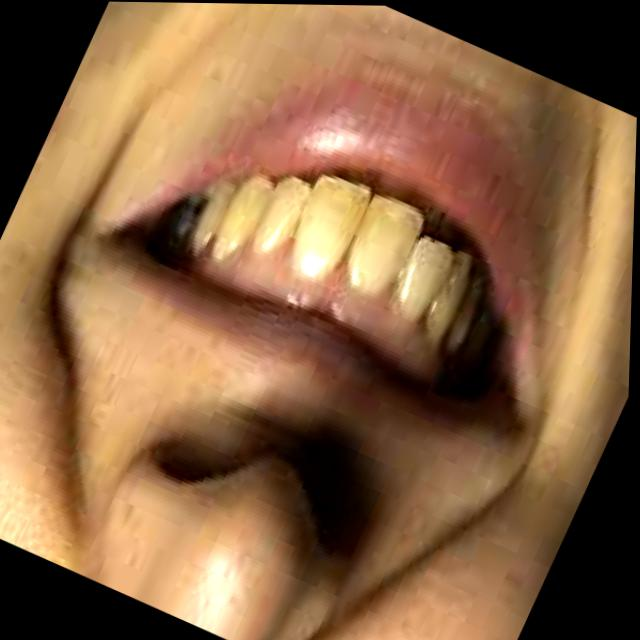tooth-discoloration: (292, 178, 371, 282), (349, 198, 422, 298), (395, 239, 454, 324), (254, 180, 311, 256)
